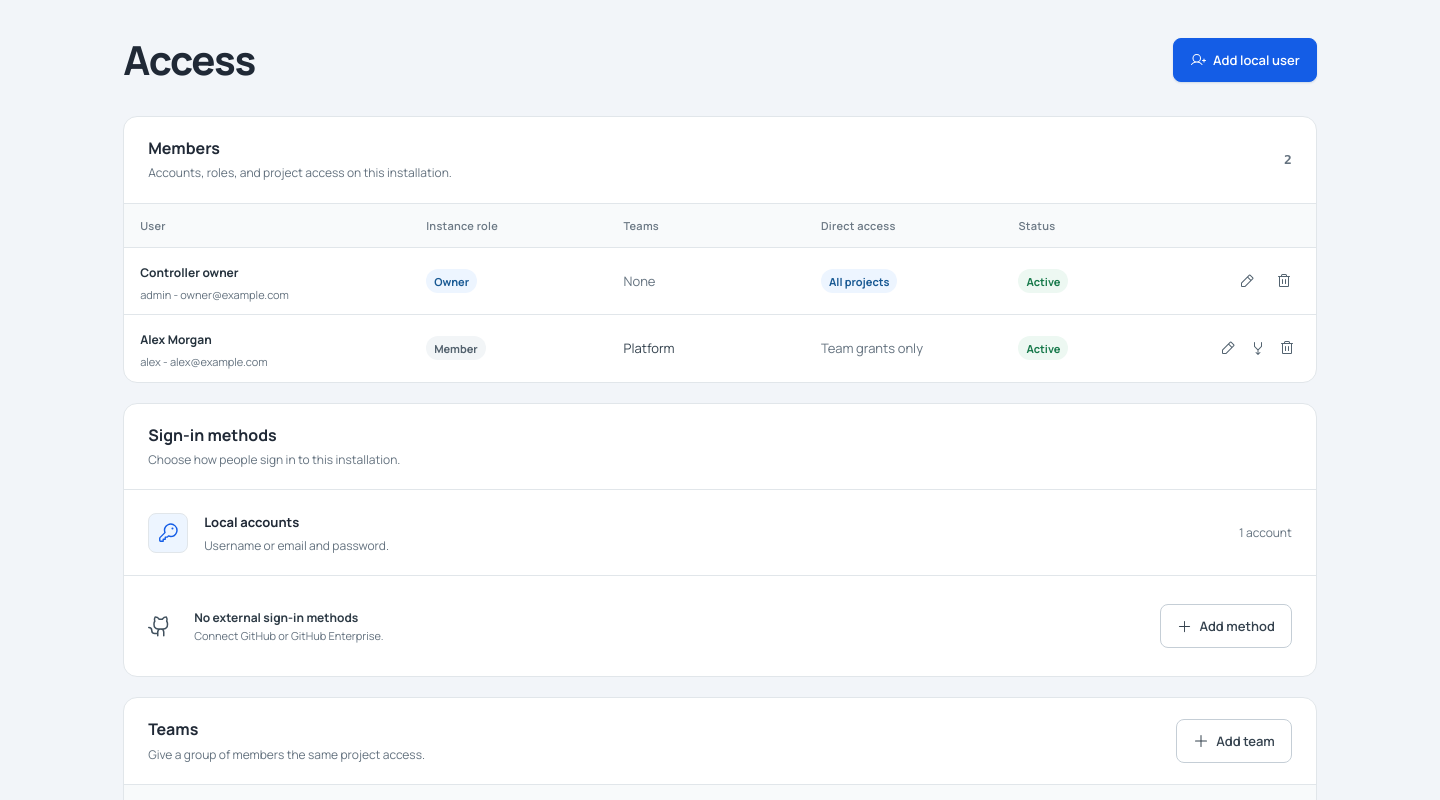
Test case: connected instance access › keeps the account form open when creation fails
Expected: the text "Controller owner" is shown, x1=140 y1=264 x2=239 y2=281
Click the button "Add local user". click: (1245, 60)
box: x1=1173 y1=38 x2=1317 y2=82
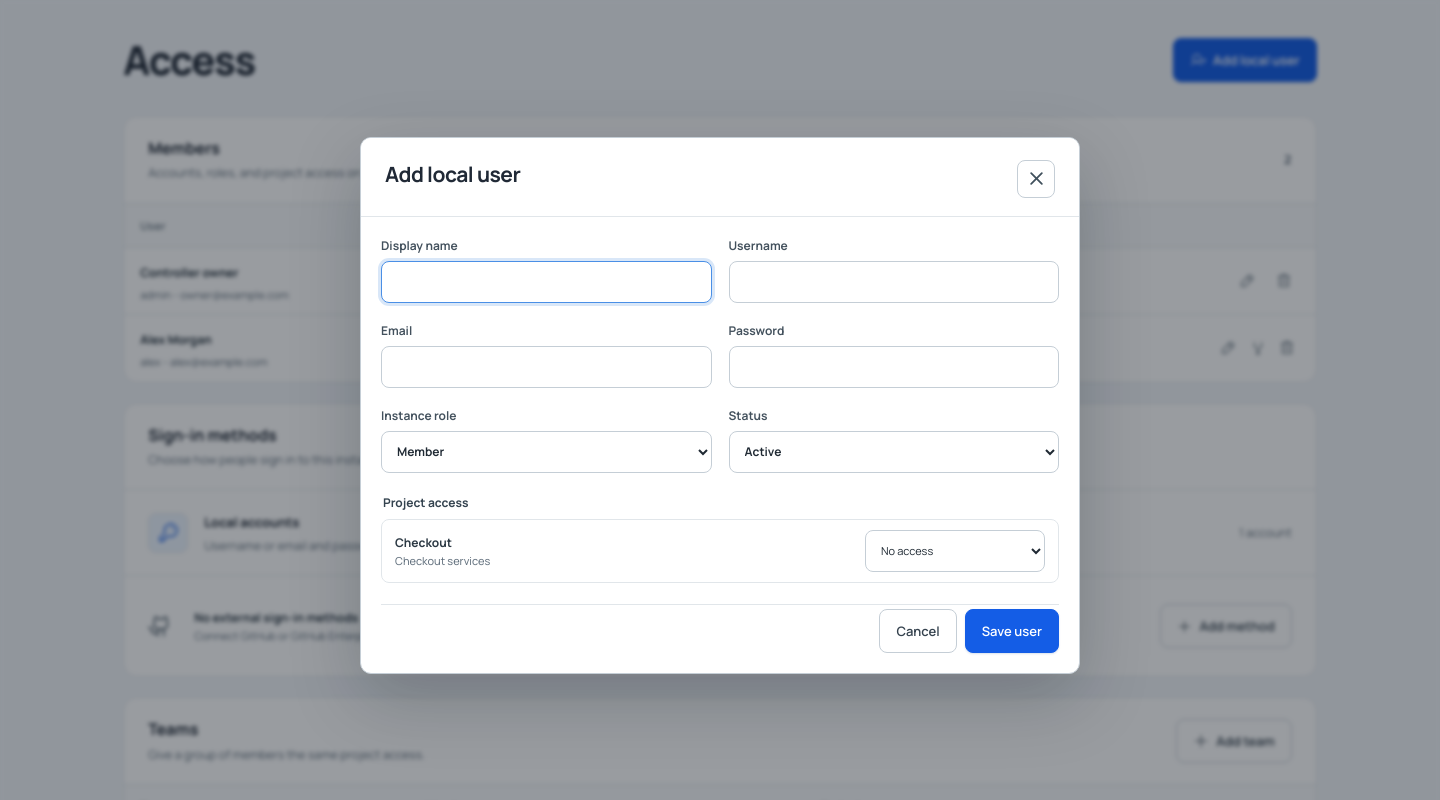
Type "Alex" into the field labelled "Display name". click: (546, 282)
box: x1=381 y1=260 x2=712 y2=302
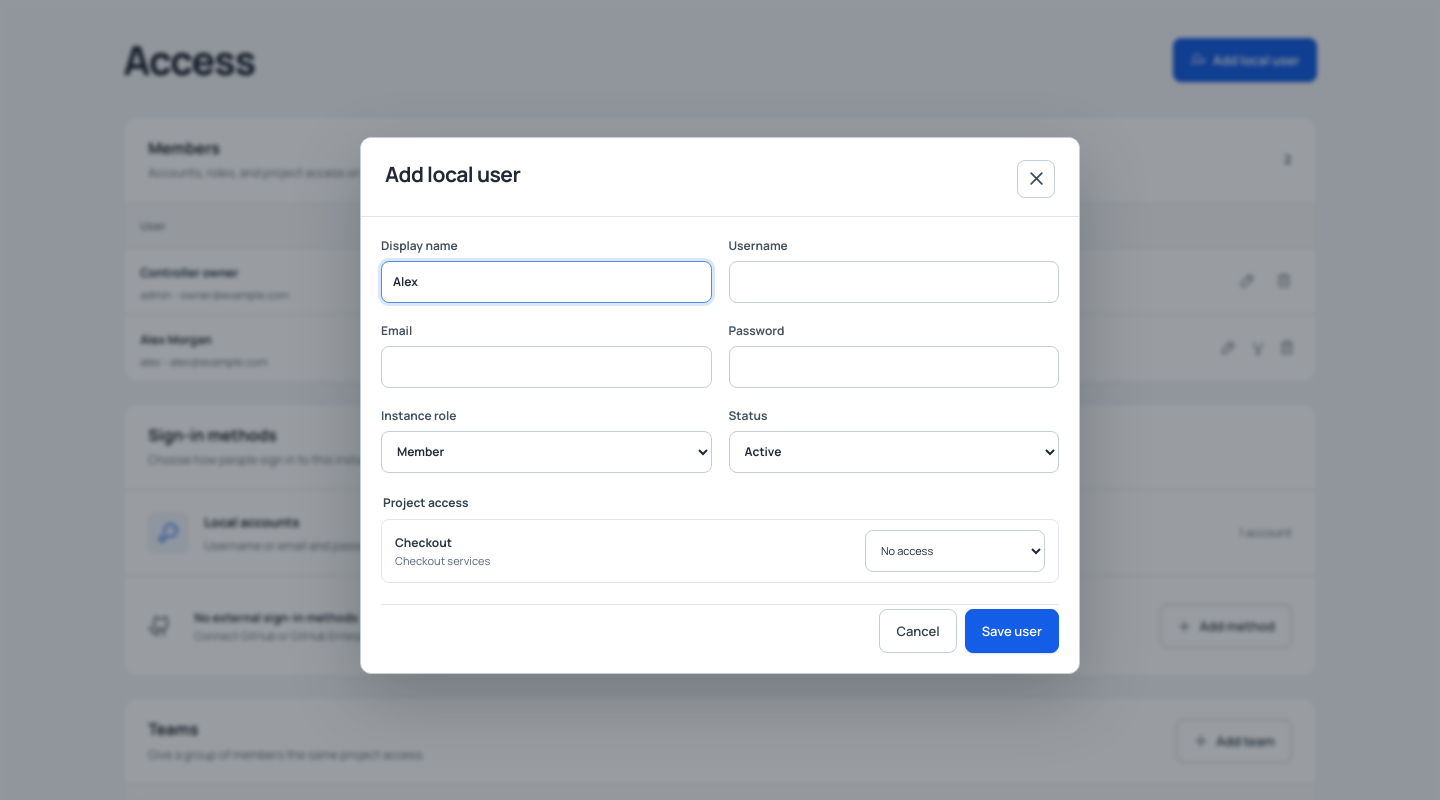
Type "alex" into the field labelled "Username". click: (894, 282)
box: x1=728 y1=260 x2=1059 y2=302
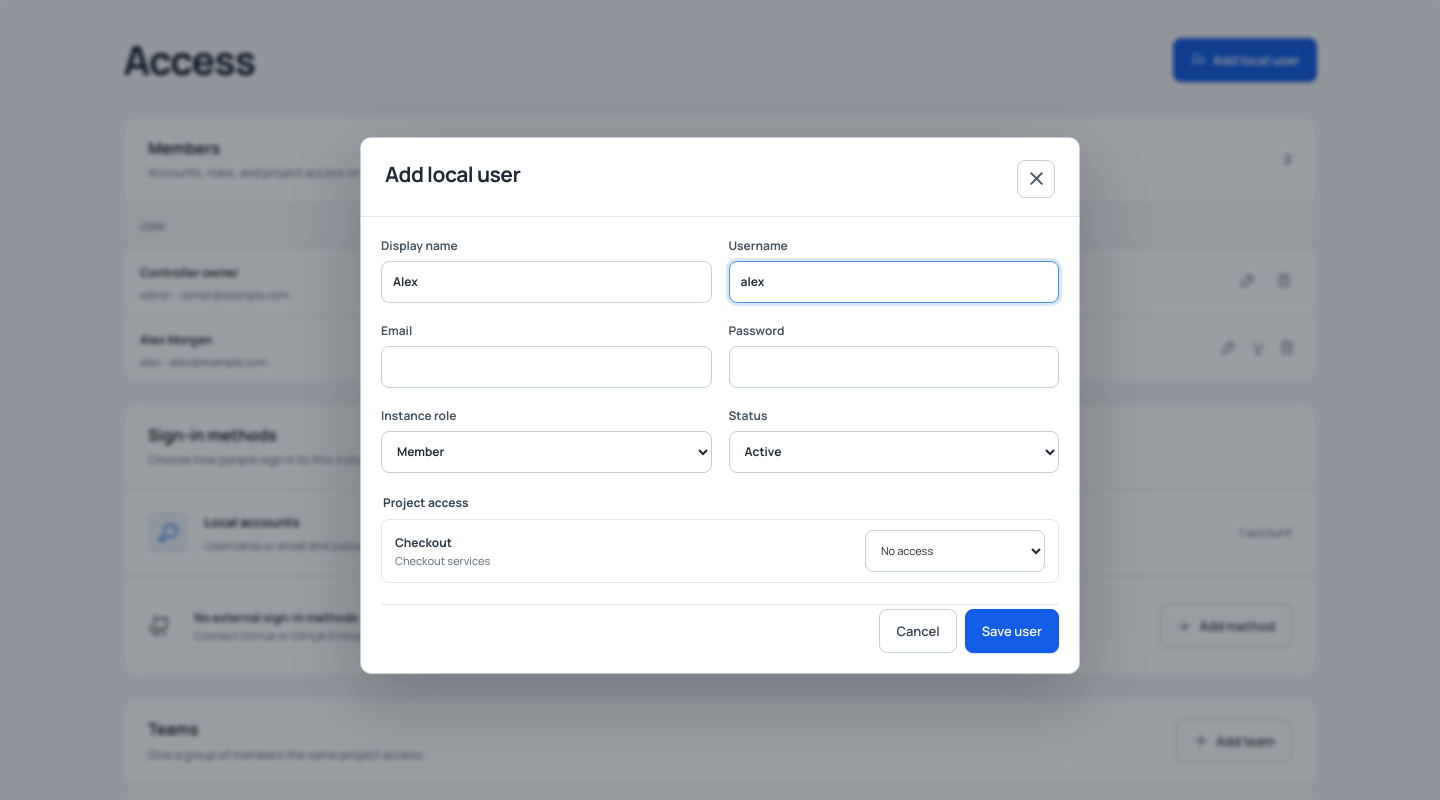
Type "alex-password" into the password field labelled "Password". click: (894, 366)
box: x1=728 y1=346 x2=1059 y2=388
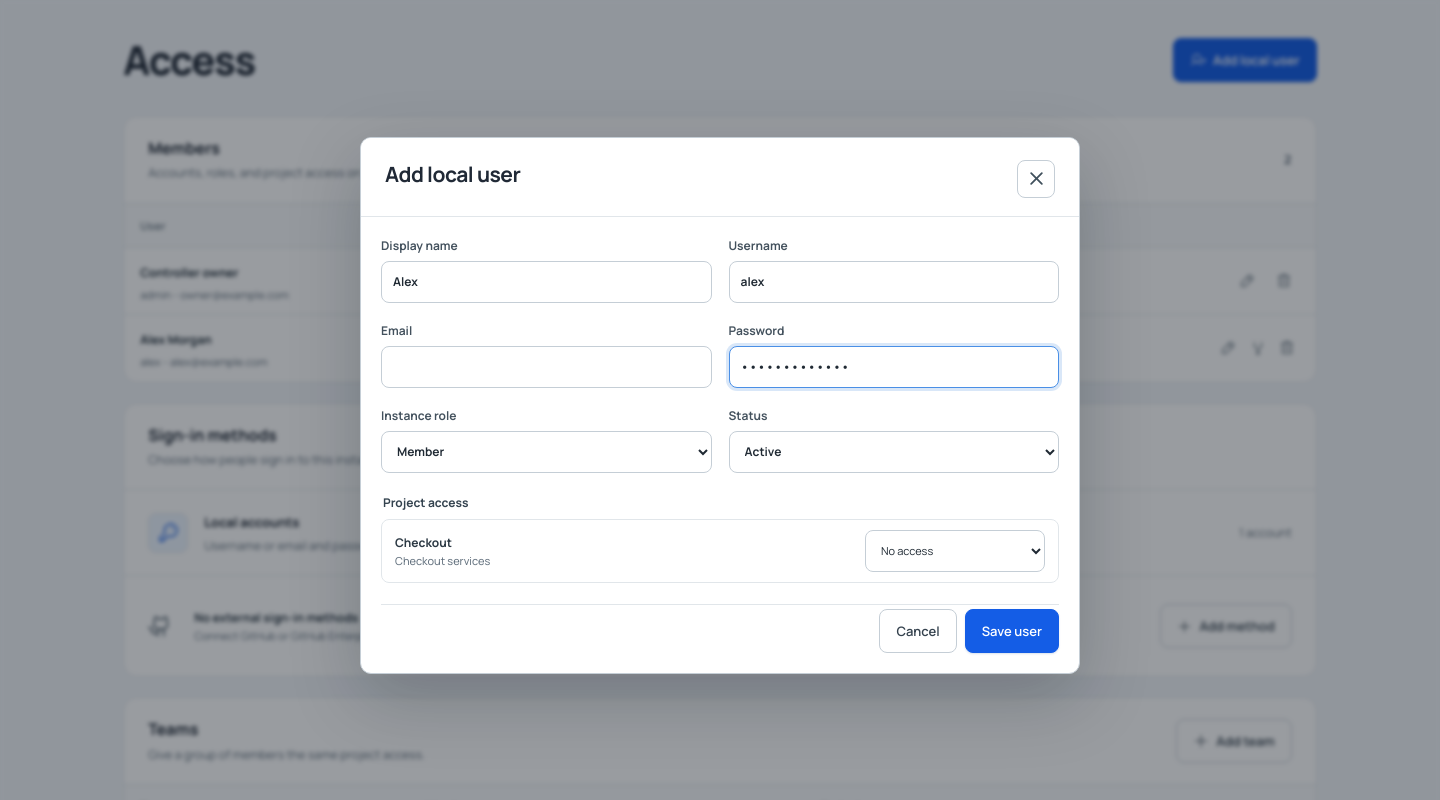
Click the button "Save user". click: (1012, 630)
box: x1=965 y1=608 x2=1059 y2=652
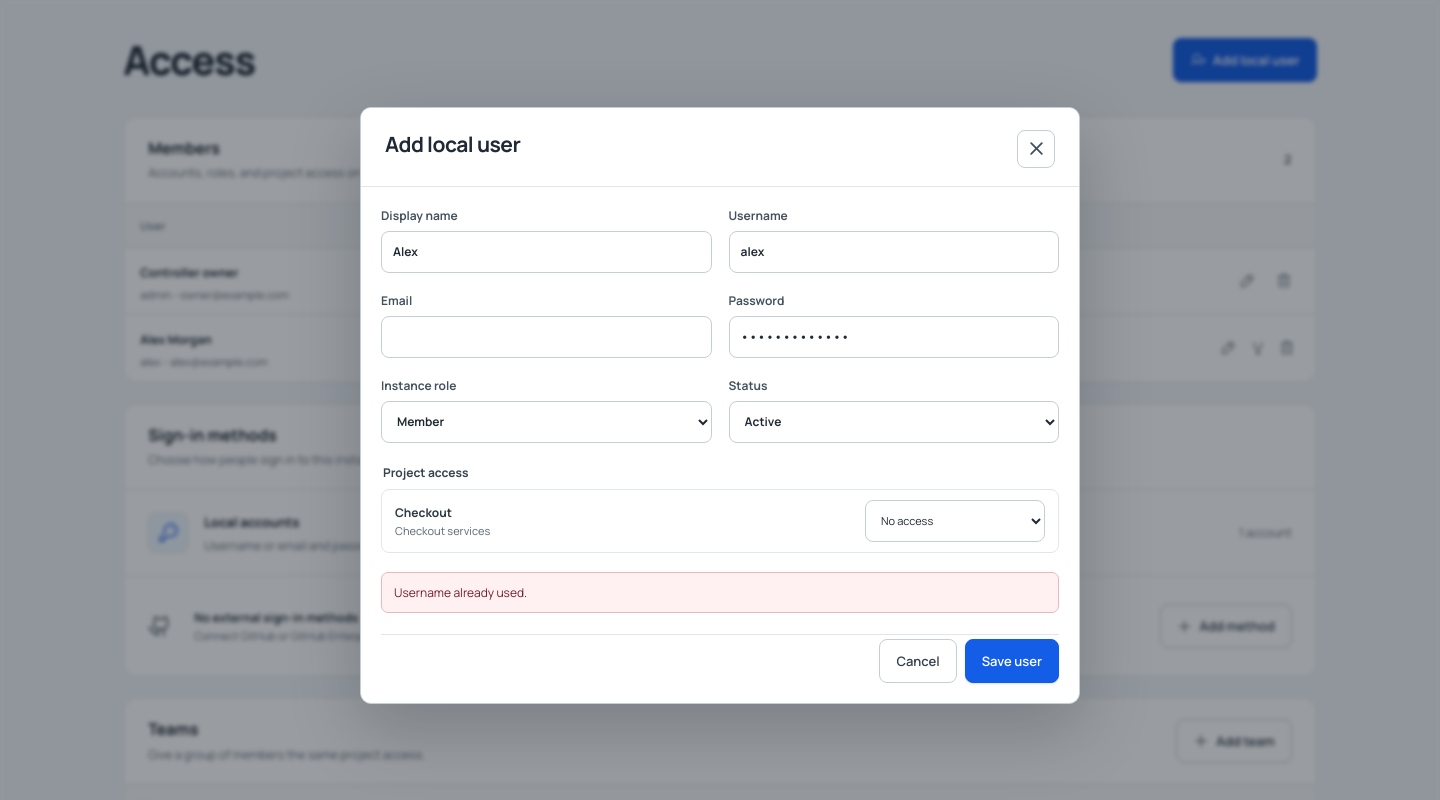
Expected: the button "Save user" is enabled, x1=965 y1=638 x2=1059 y2=682
Expected: the message "Username already used." is shown, x1=381 y1=572 x2=1059 y2=612
